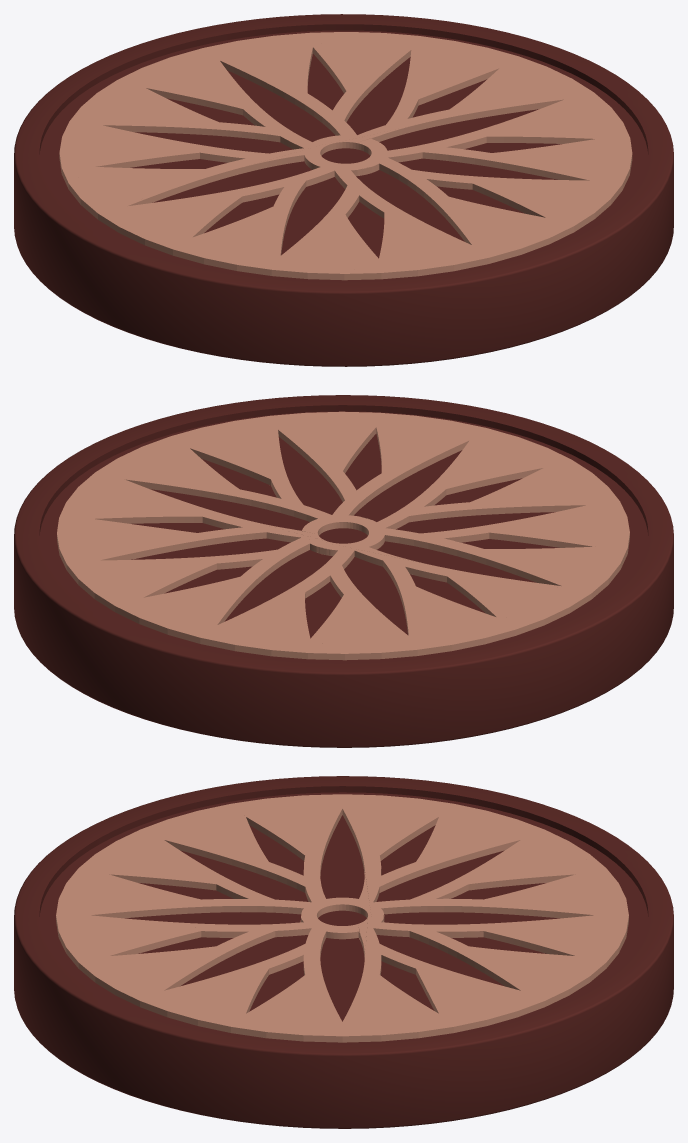
File: Chrysanthemum_R.fbx
3 views of the same model, one above another, from view 1: azimuth 30°, elevation 25°; view 2: azimuth 150°, elevation 25°; view 3: azimuth 270°, elevation 25° (orthographic).
Visible parts, largest first — view 1: Tile09.001; view 2: Tile09.001; view 3: Tile09.001.
Boxes of the visible parts, left/top/right/bottom form: Tile09.001: left=14, top=14, right=673, bottom=366; Tile09.001: left=14, top=395, right=673, bottom=747; Tile09.001: left=14, top=776, right=673, bottom=1128.
Size of the model in its own units: 13.25 by 1.67 by 13.25.
